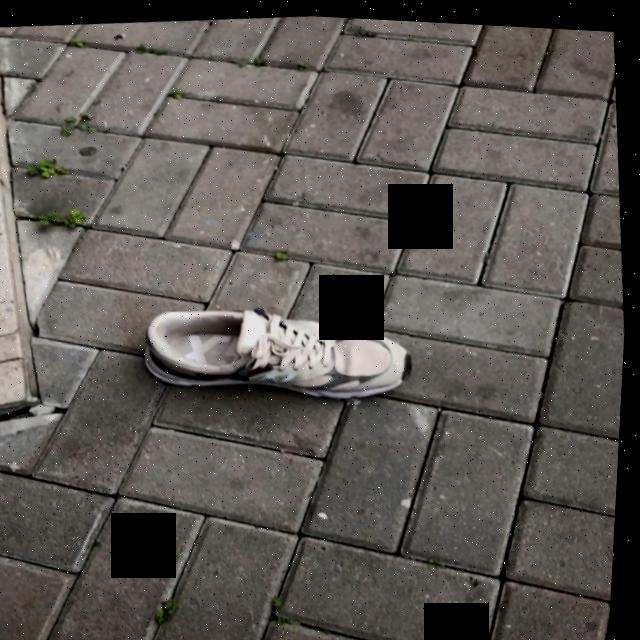shoe: (148, 306, 413, 397)
